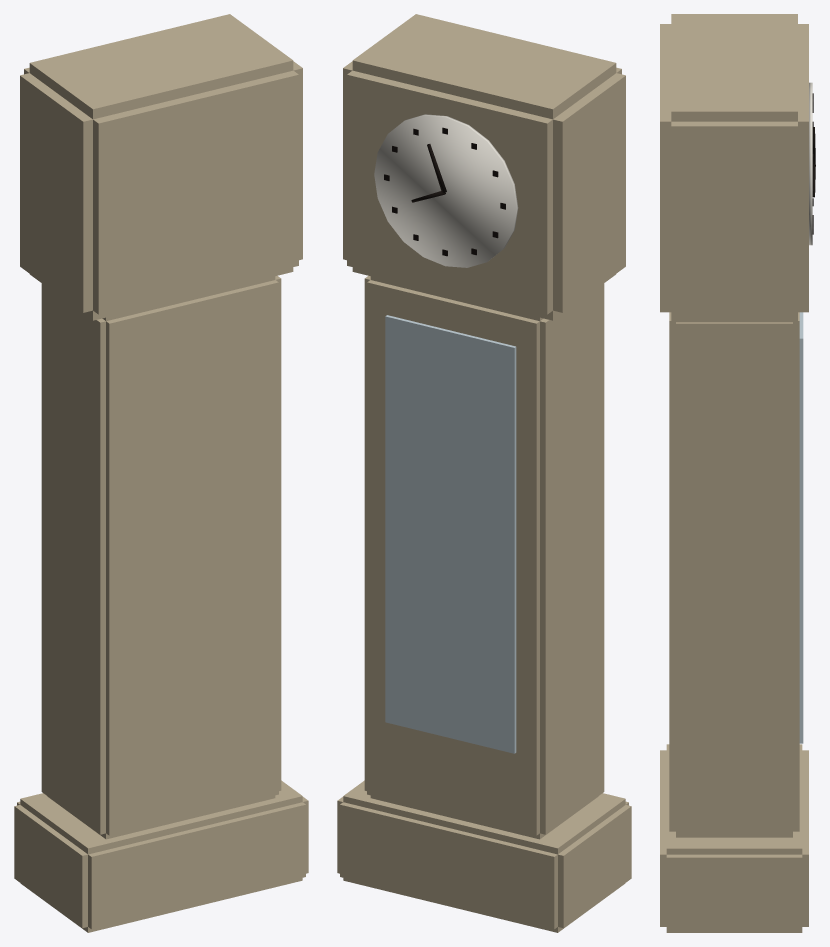
File: boreal_clock_v0.glb
The picture shows the model from 3 angles, left to right: view 1: azimuth 30°, elevation 25°; view 2: azimuth 150°, elevation 25°; view 3: azimuth 270°, elevation 25°; orthographic projection.
Parts seen in each view (by area): view 1: boreal_clock_v0; view 2: boreal_clock_v0; view 3: boreal_clock_v0.
Part boxes in pixels (box(x1,y1,x2,y2)): boreal_clock_v0: box(14, 14, 308, 932); boreal_clock_v0: box(337, 14, 631, 932); boreal_clock_v0: box(660, 14, 815, 932).
Bounding box in the file's own units: 0.7 × 2.42 × 0.4185.
